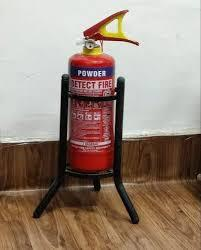floor-kept: (31, 4, 149, 228)
